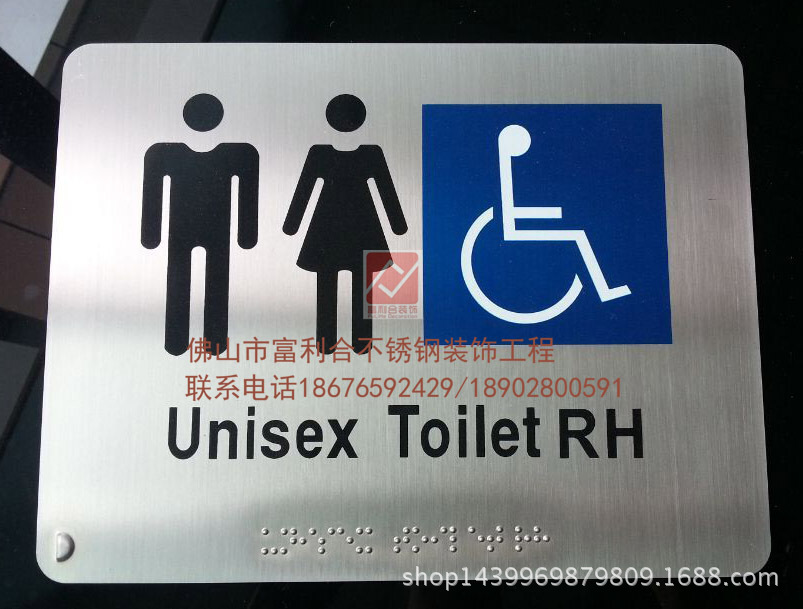Braille: (355, 526, 374, 555), (412, 526, 429, 555), (280, 527, 297, 555), (318, 527, 335, 555), (431, 527, 448, 555), (533, 525, 550, 552), (468, 526, 484, 554), (300, 527, 316, 554), (337, 527, 353, 554), (514, 526, 530, 553), (394, 526, 409, 554), (488, 525, 503, 553), (450, 526, 464, 555), (262, 527, 276, 555)
